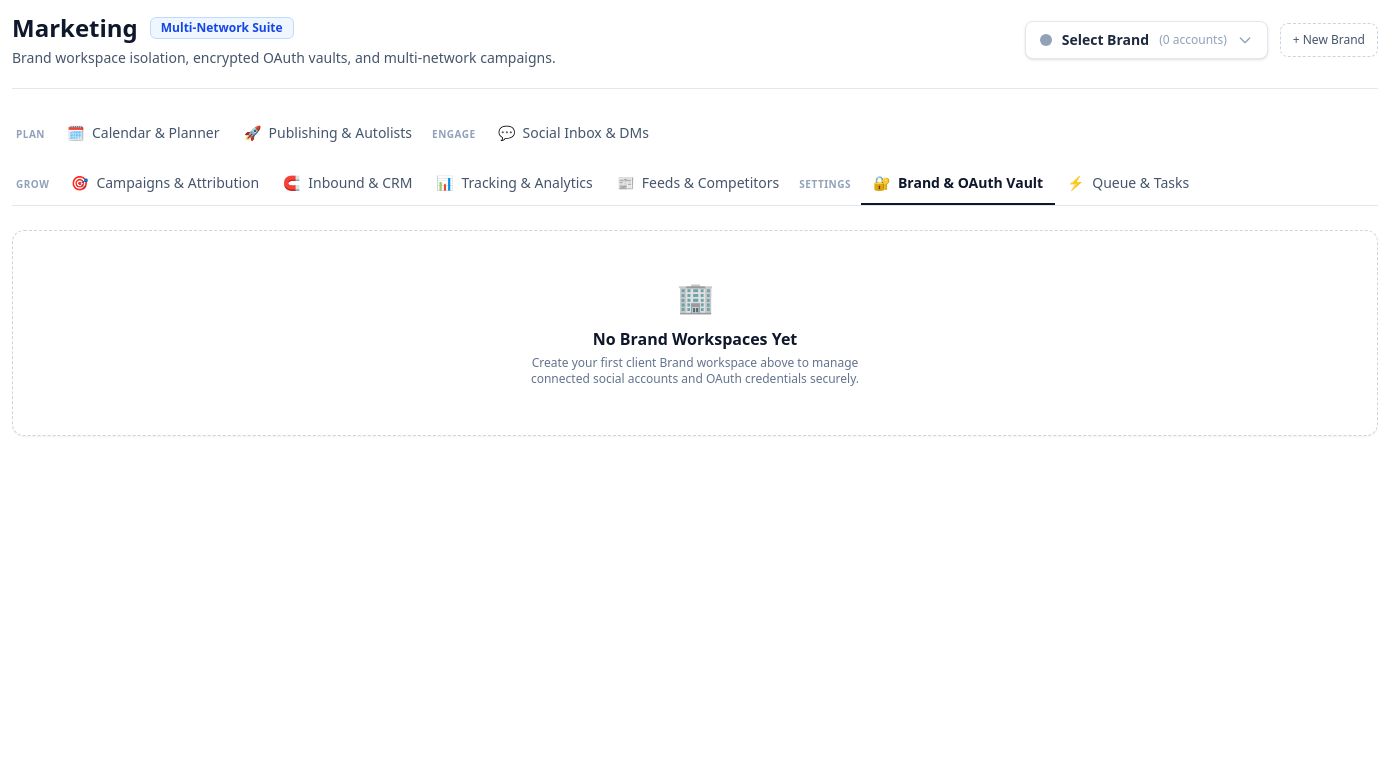
Test: MarketingPage › renders the Job Queue & Tasks tab and displays scheduled jobs
# Click Queue & Tasks tab
Click the tab "⚡ Queue & Tasks" at x=1128, y=184, box x1=1055 y1=163 x2=1201 y2=205
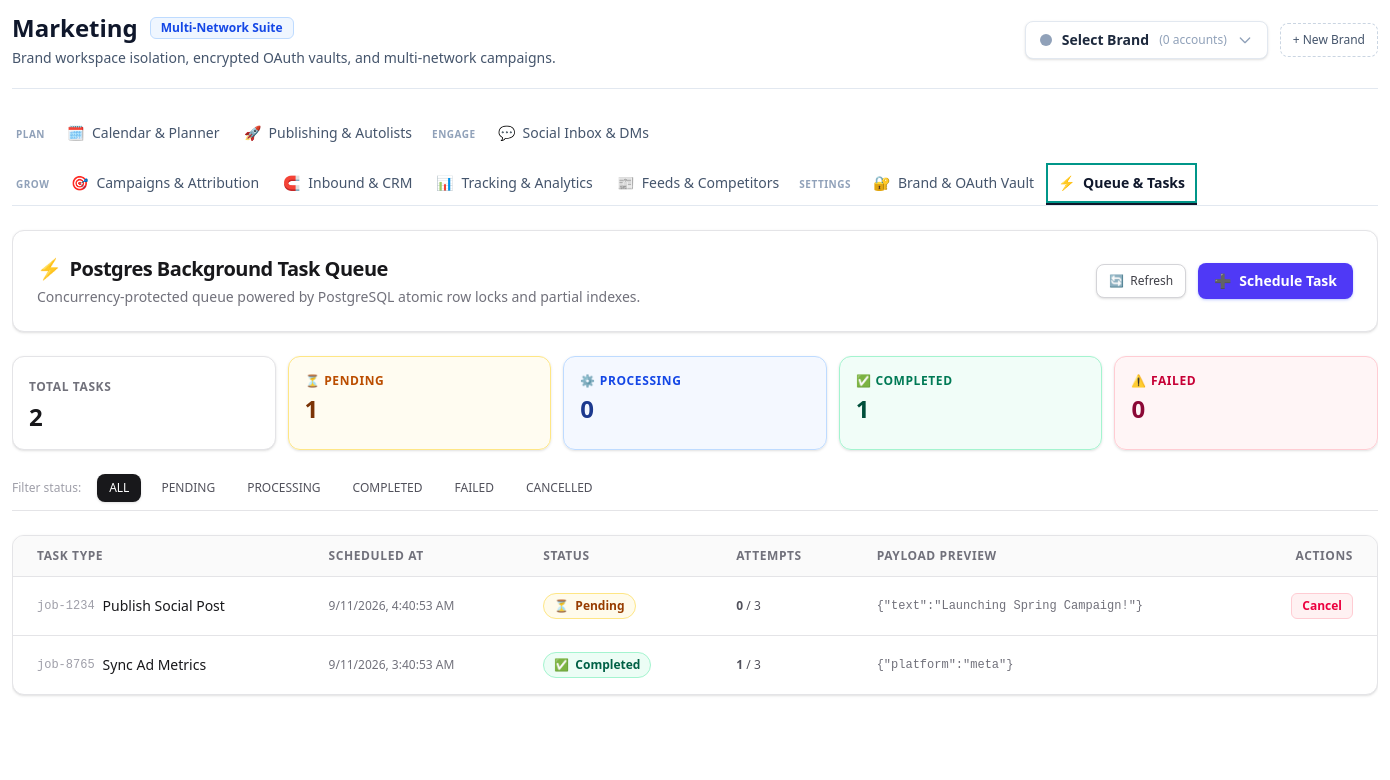
Now the heading "⚡ Postgres Background Task Queue" is shown, box x1=37 y1=255 x2=388 y2=282
Now the text "Publish Social Post" is shown, box x1=103 y1=596 x2=225 y2=616
Now the text "Sync Ad Metrics" is shown, box x1=103 y1=655 x2=206 y2=675
